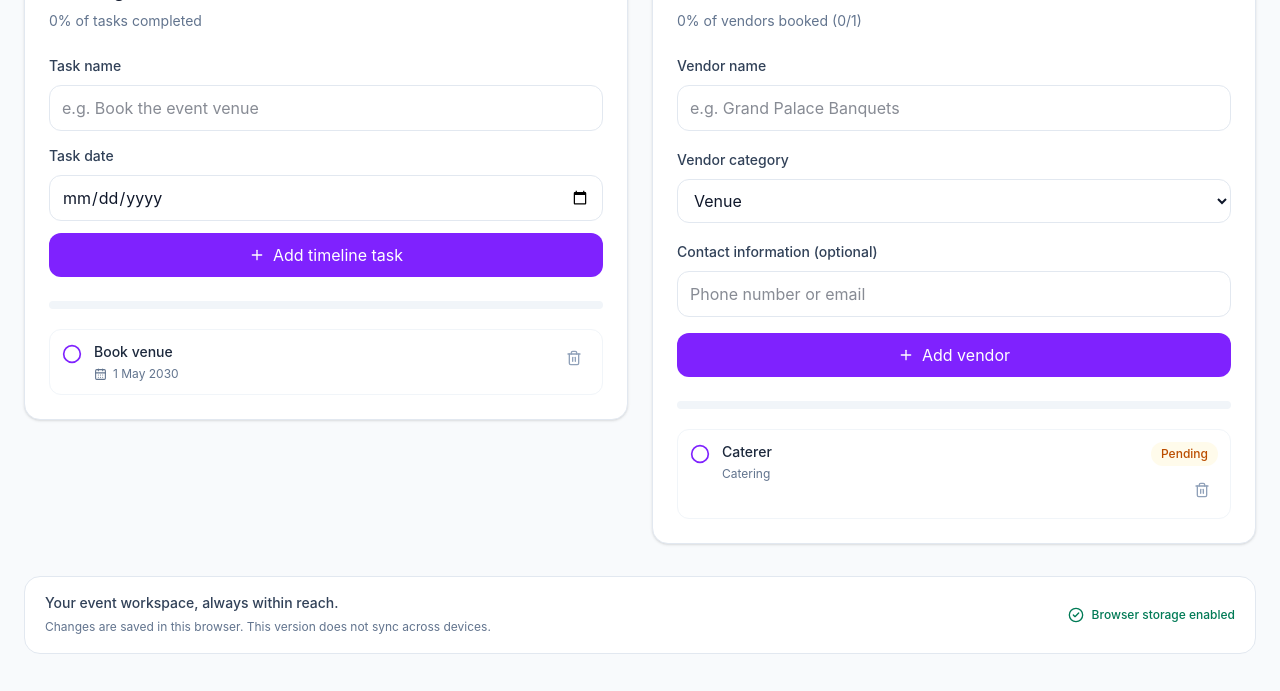
Test: OperationsPage › shows an alert instead of crashing when saving fails
(page scrolled)
Click the button named "Mark Caterer booked" at coordinates (700, 454), box 690,444 -> 710,464
(page scrolled)
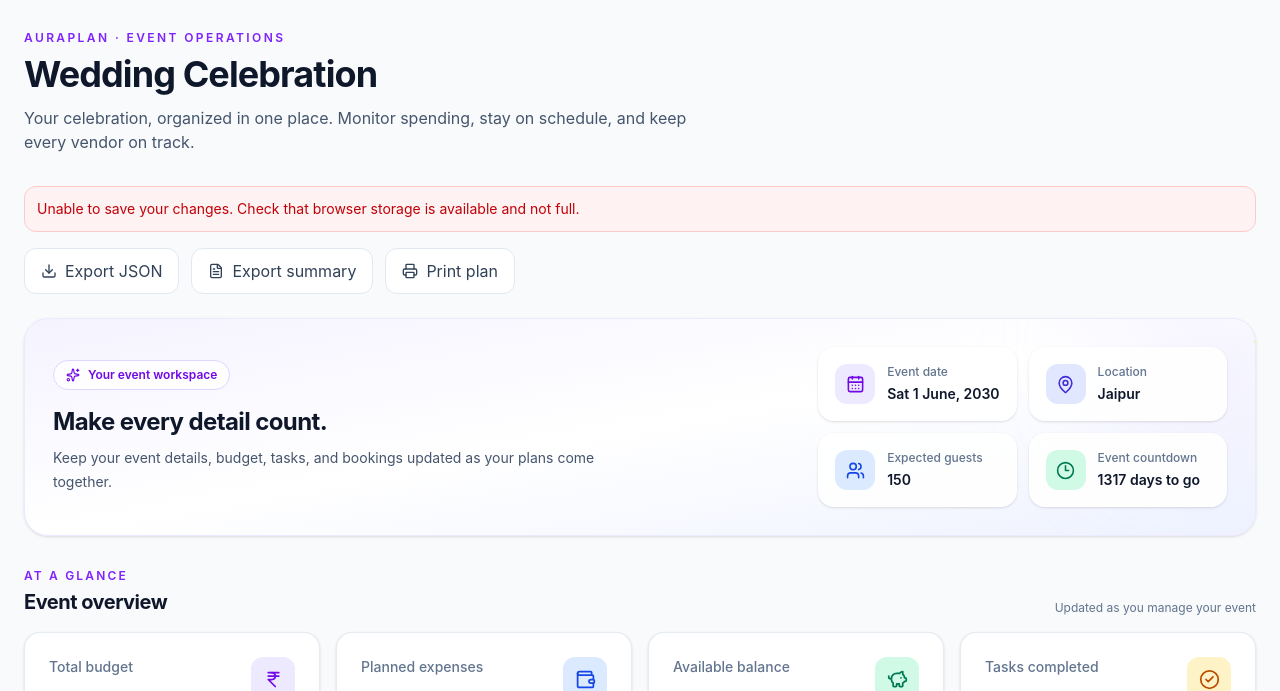
Now the message shows "Unable to save your changes", box 37,200 -> 580,217
